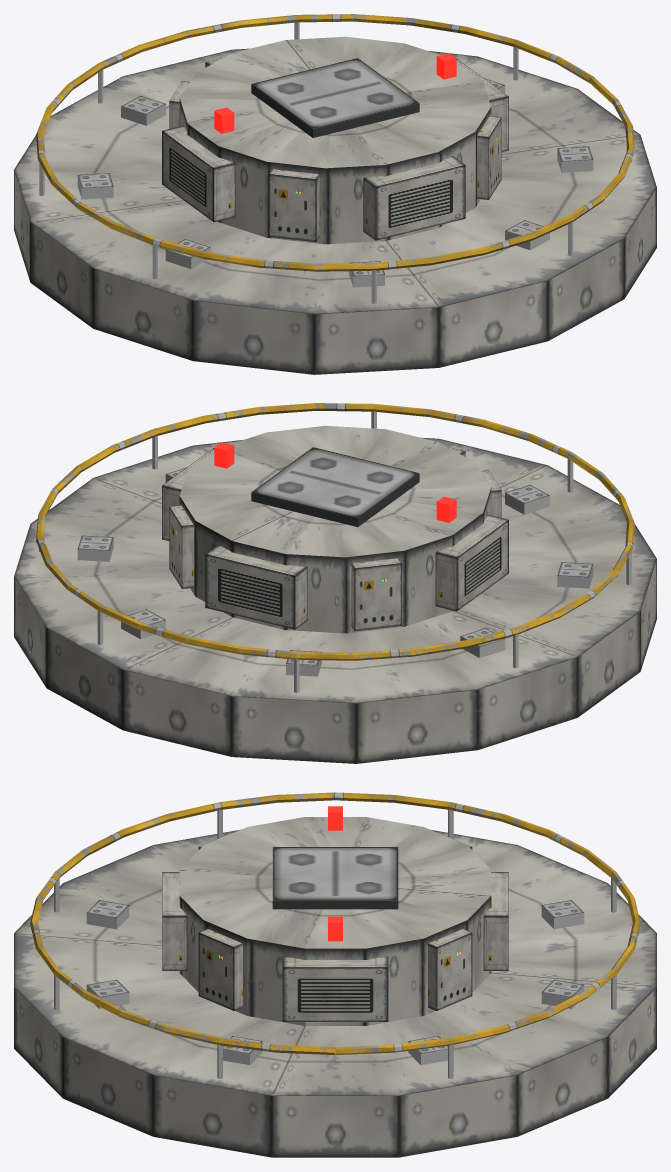
Rendered from cen_hub_top.fbx.
The picture shows the model from 3 angles, top to bottom: view 1: azimuth 30°, elevation 25°; view 2: azimuth 150°, elevation 25°; view 3: azimuth 270°, elevation 25°; orthographic projection.
Parts seen in each view (by area): view 1: cen_hub_top; view 2: cen_hub_top; view 3: cen_hub_top.
Boxes of the visible parts, left/top/right/bottom form: cen_hub_top: left=14, top=14, right=656, bottom=374; cen_hub_top: left=14, top=403, right=656, bottom=763; cen_hub_top: left=14, top=792, right=656, bottom=1157.
Bounding box in the file's own units: 2.56 × 0.69 × 2.56.
1 material, 1 textured.
